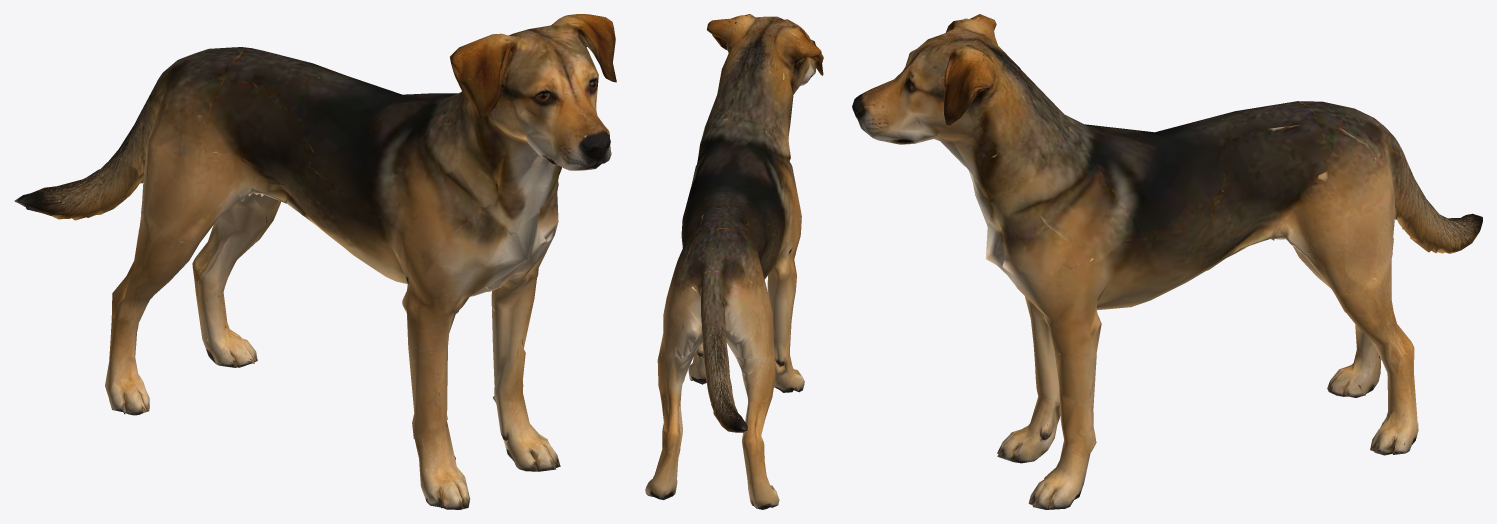
The model's file is dog.glb.
3 renders of one model, left to right at view 1: azimuth 30°, elevation 25°; view 2: azimuth 150°, elevation 25°; view 3: azimuth 270°, elevation 25°, orthographic. The views are drawn at different scales.
Parts seen in each view (by area): view 1: dog; view 2: dog; view 3: dog.
Part boxes in pixels (x1,y1,x2,y2): dog: (14, 14, 616, 509); dog: (645, 14, 823, 509); dog: (852, 14, 1482, 509).
Bounding box in the file's own units: 0.5283 × 0.7445 × 0.9487.
1 material, 1 textured.
